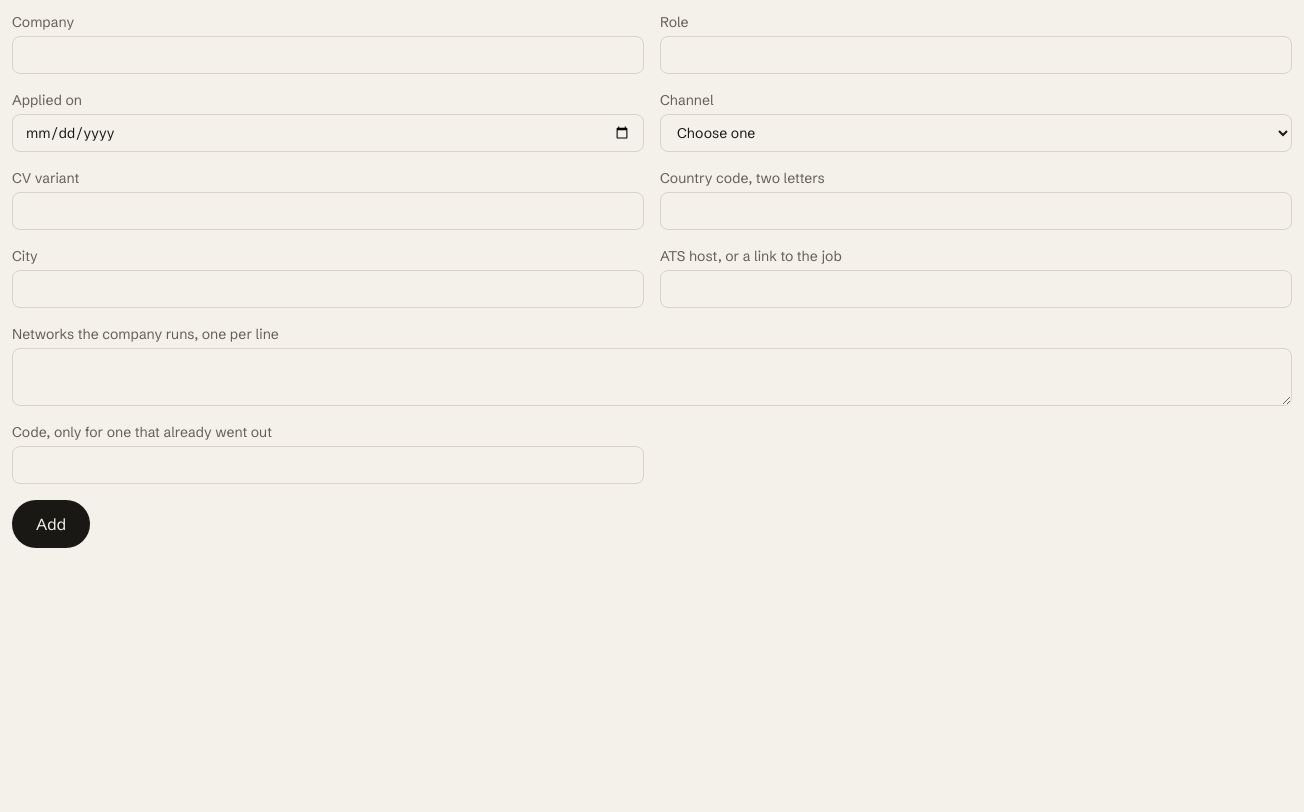
Test: AddApplicationForm › shows why the API refused it under the button, and keeps what was typed
Type "Acme" into the field labelled "Company" at (328, 55), box [12, 36, 644, 74]
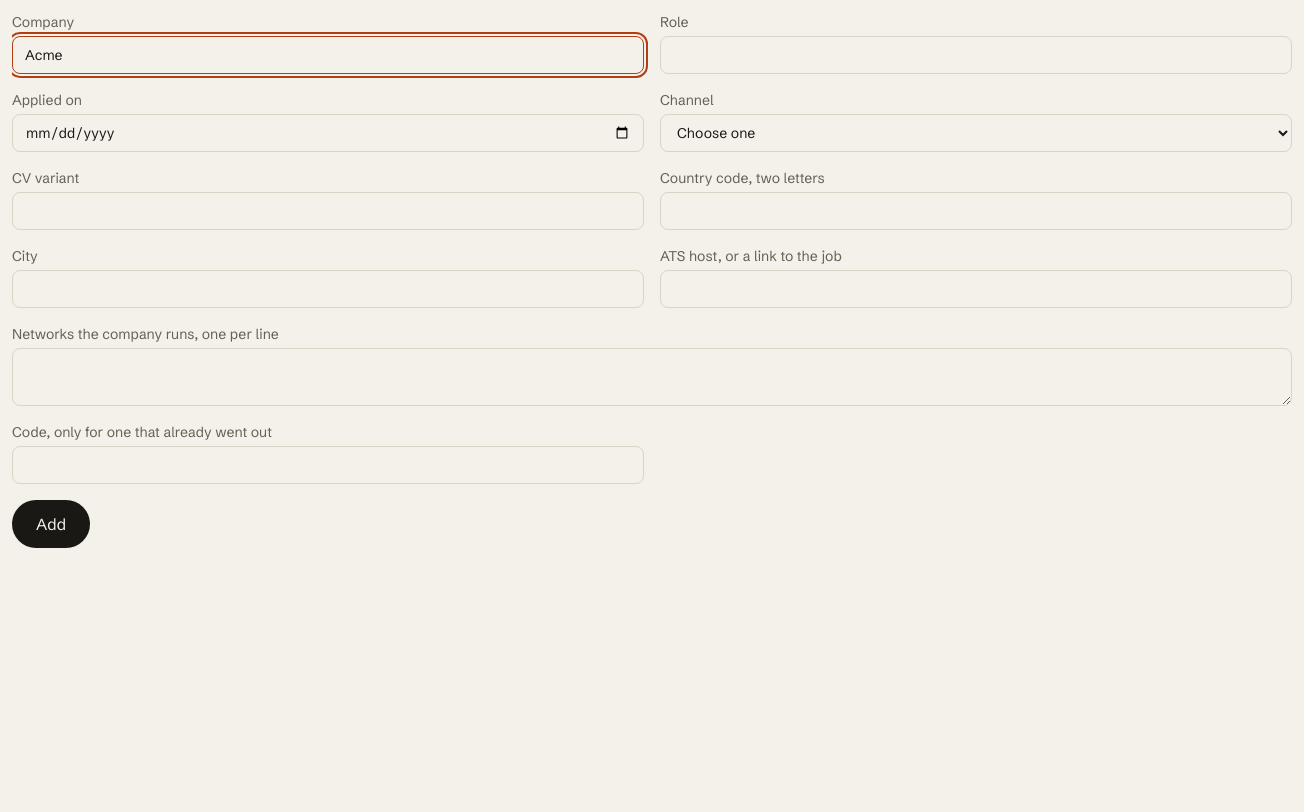
Type "Backend Engineer" into the field labelled "Role" at (976, 55), box [660, 36, 1292, 74]
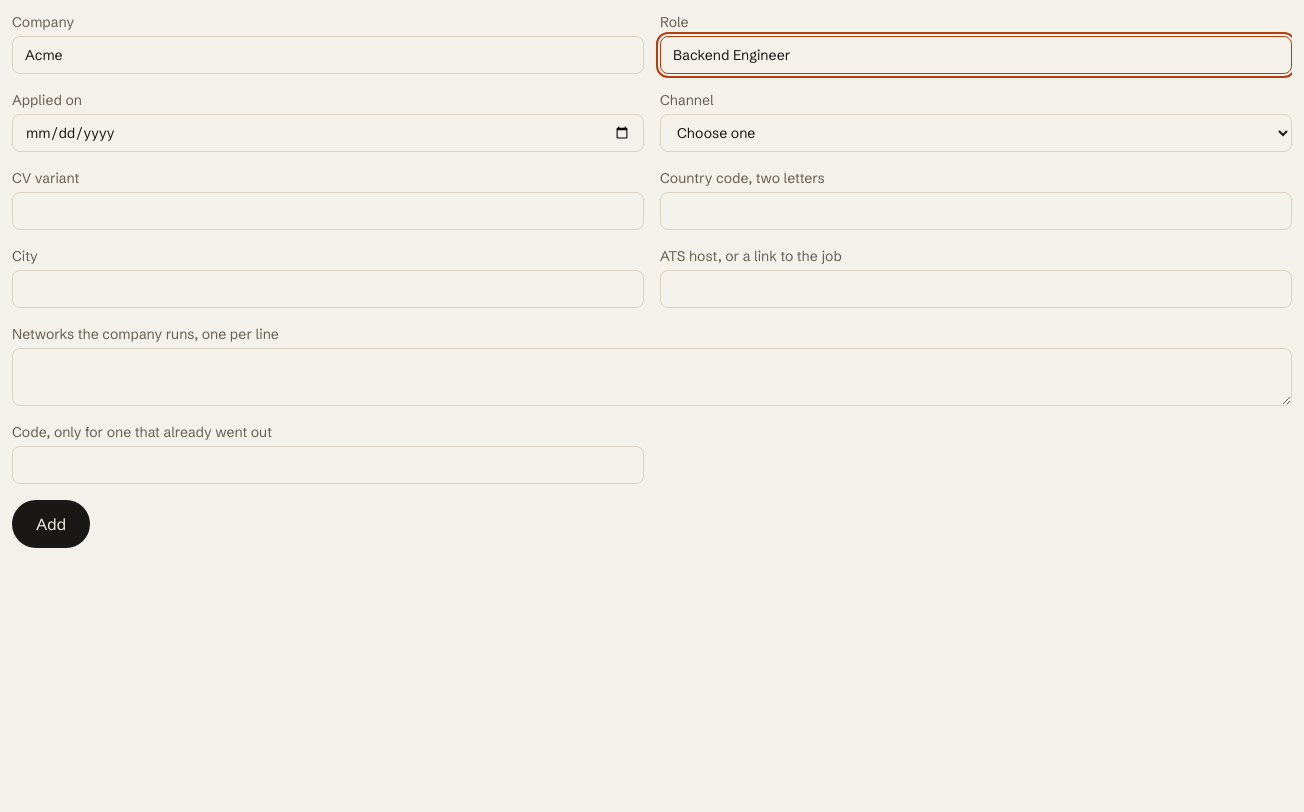
Type "2026-11-07" into the date field labelled "Applied on" at (328, 133), box [12, 114, 644, 152]
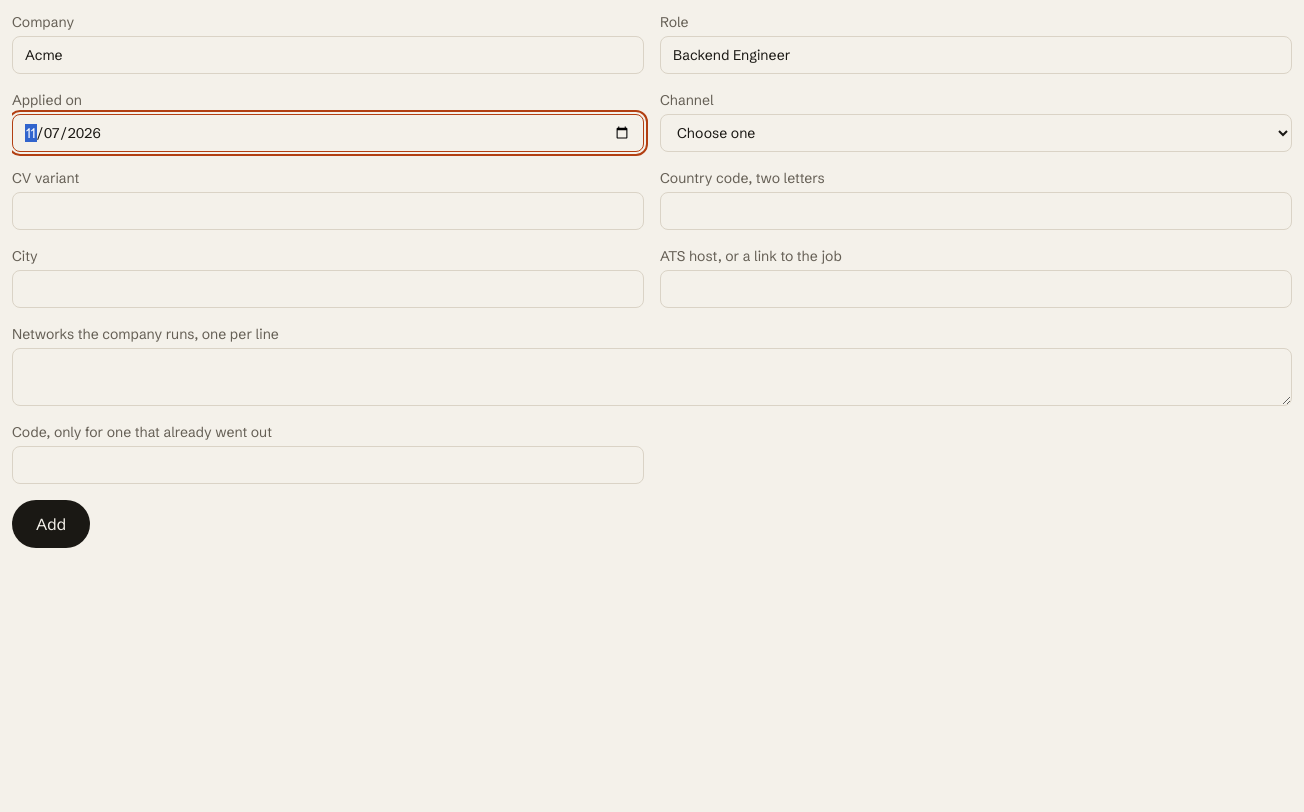
Select "referral" in the dropdown labelled "Channel" at (976, 133), box [660, 114, 1292, 152]
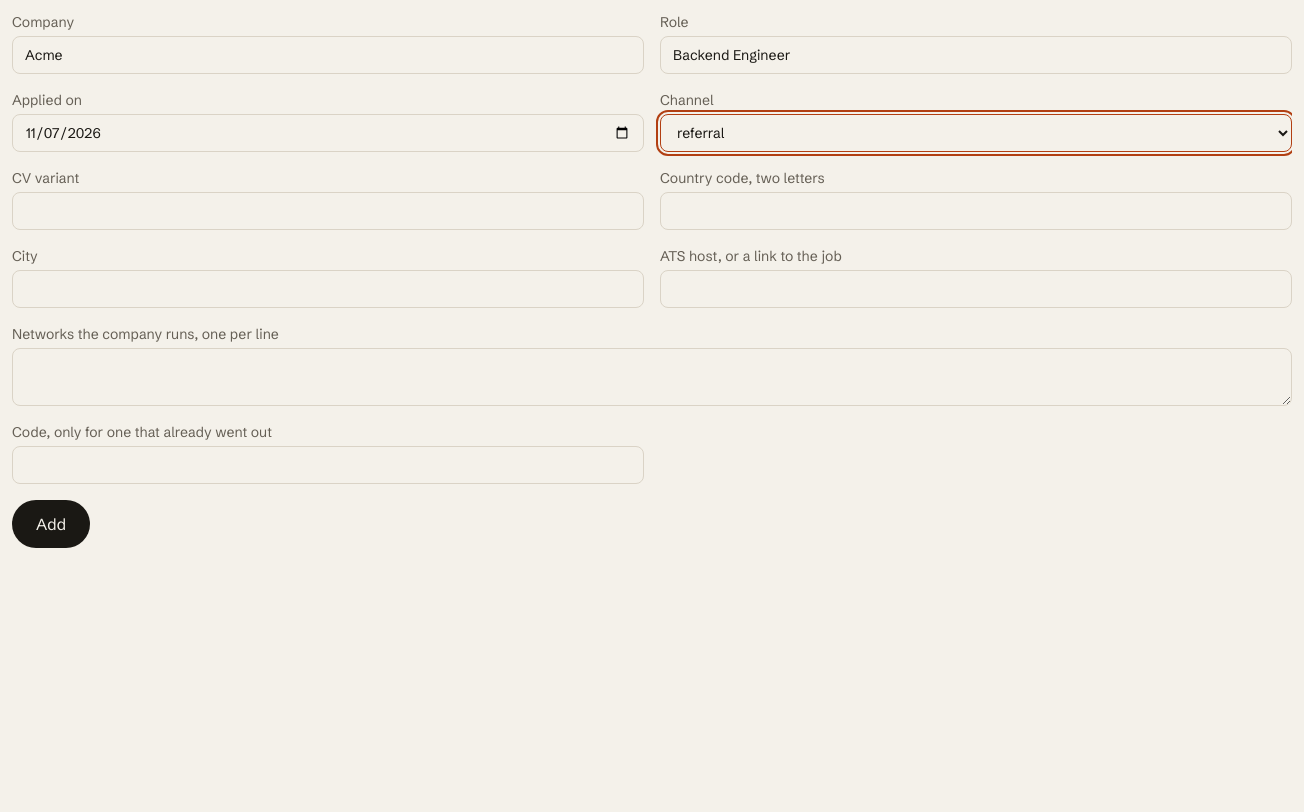
Type "base" into the field labelled "CV variant" at (328, 211), box [12, 192, 644, 230]
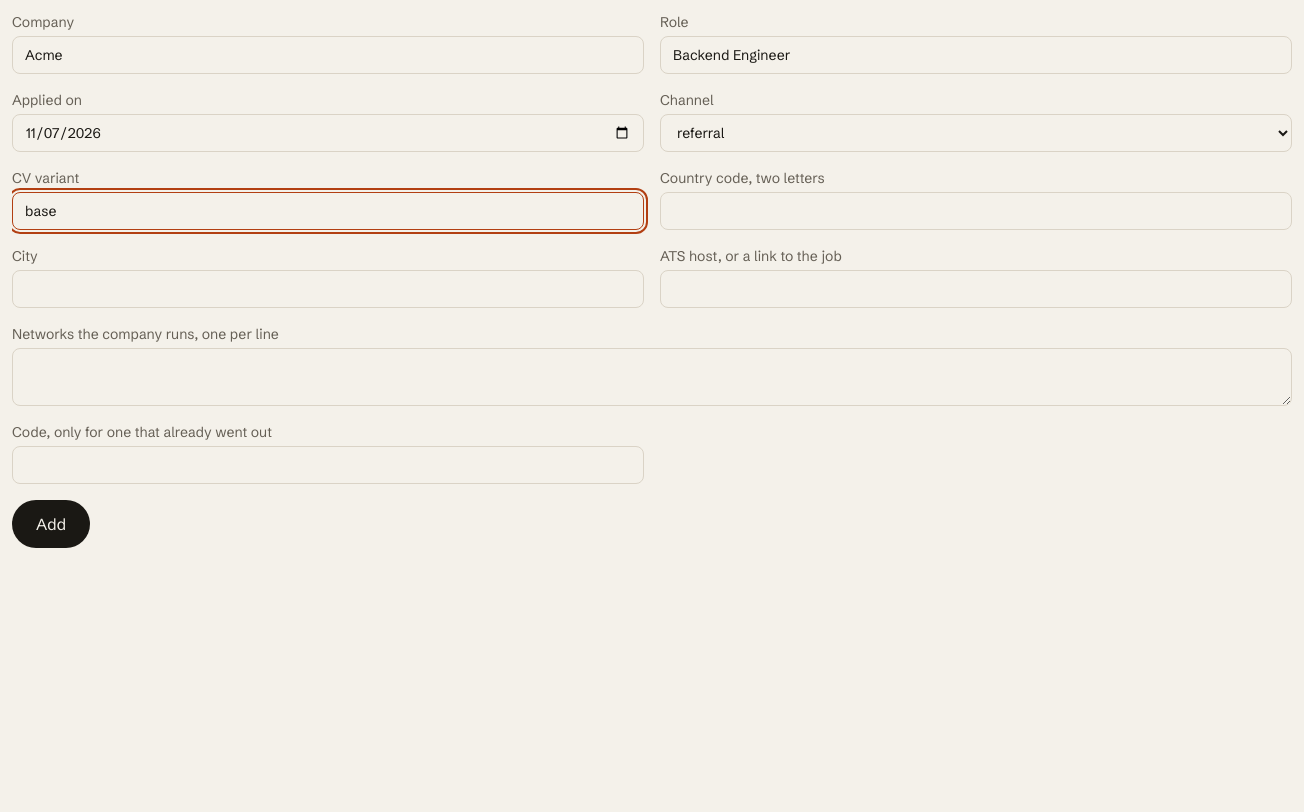
Click the button "Add" at (51, 524), box [12, 500, 90, 548]
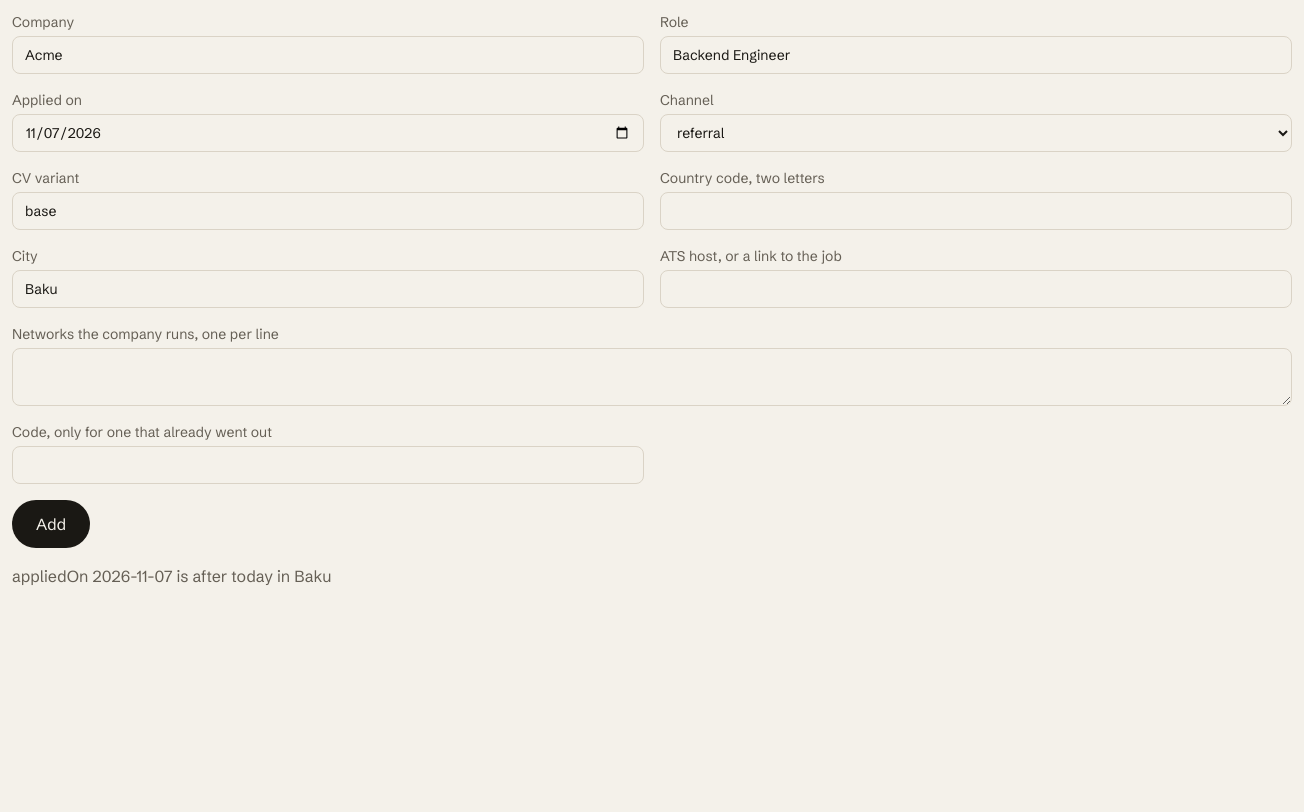
Now the field labelled "Company" holds "Acme", box [12, 36, 644, 74]
Now the dropdown labelled "Channel" shows "referral", box [660, 114, 1292, 152]
Now the message reads "appliedOn 2026-11-07 is after today in Baku", box [12, 566, 332, 586]
